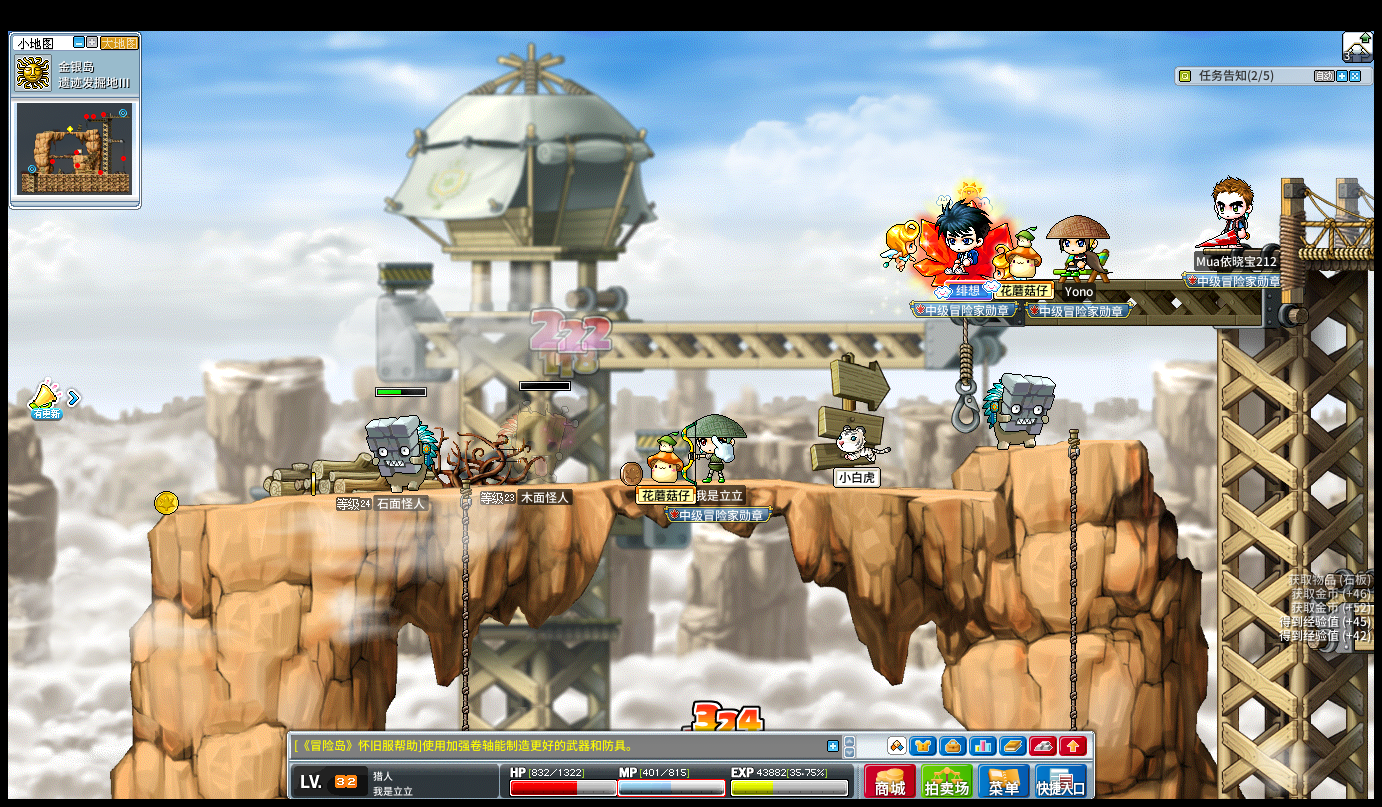floor: (166, 475, 1035, 499), (974, 434, 1145, 448)
monster: (365, 414, 440, 493), (982, 372, 1055, 449)
rope: (1065, 427, 1080, 739), (458, 477, 472, 682)
